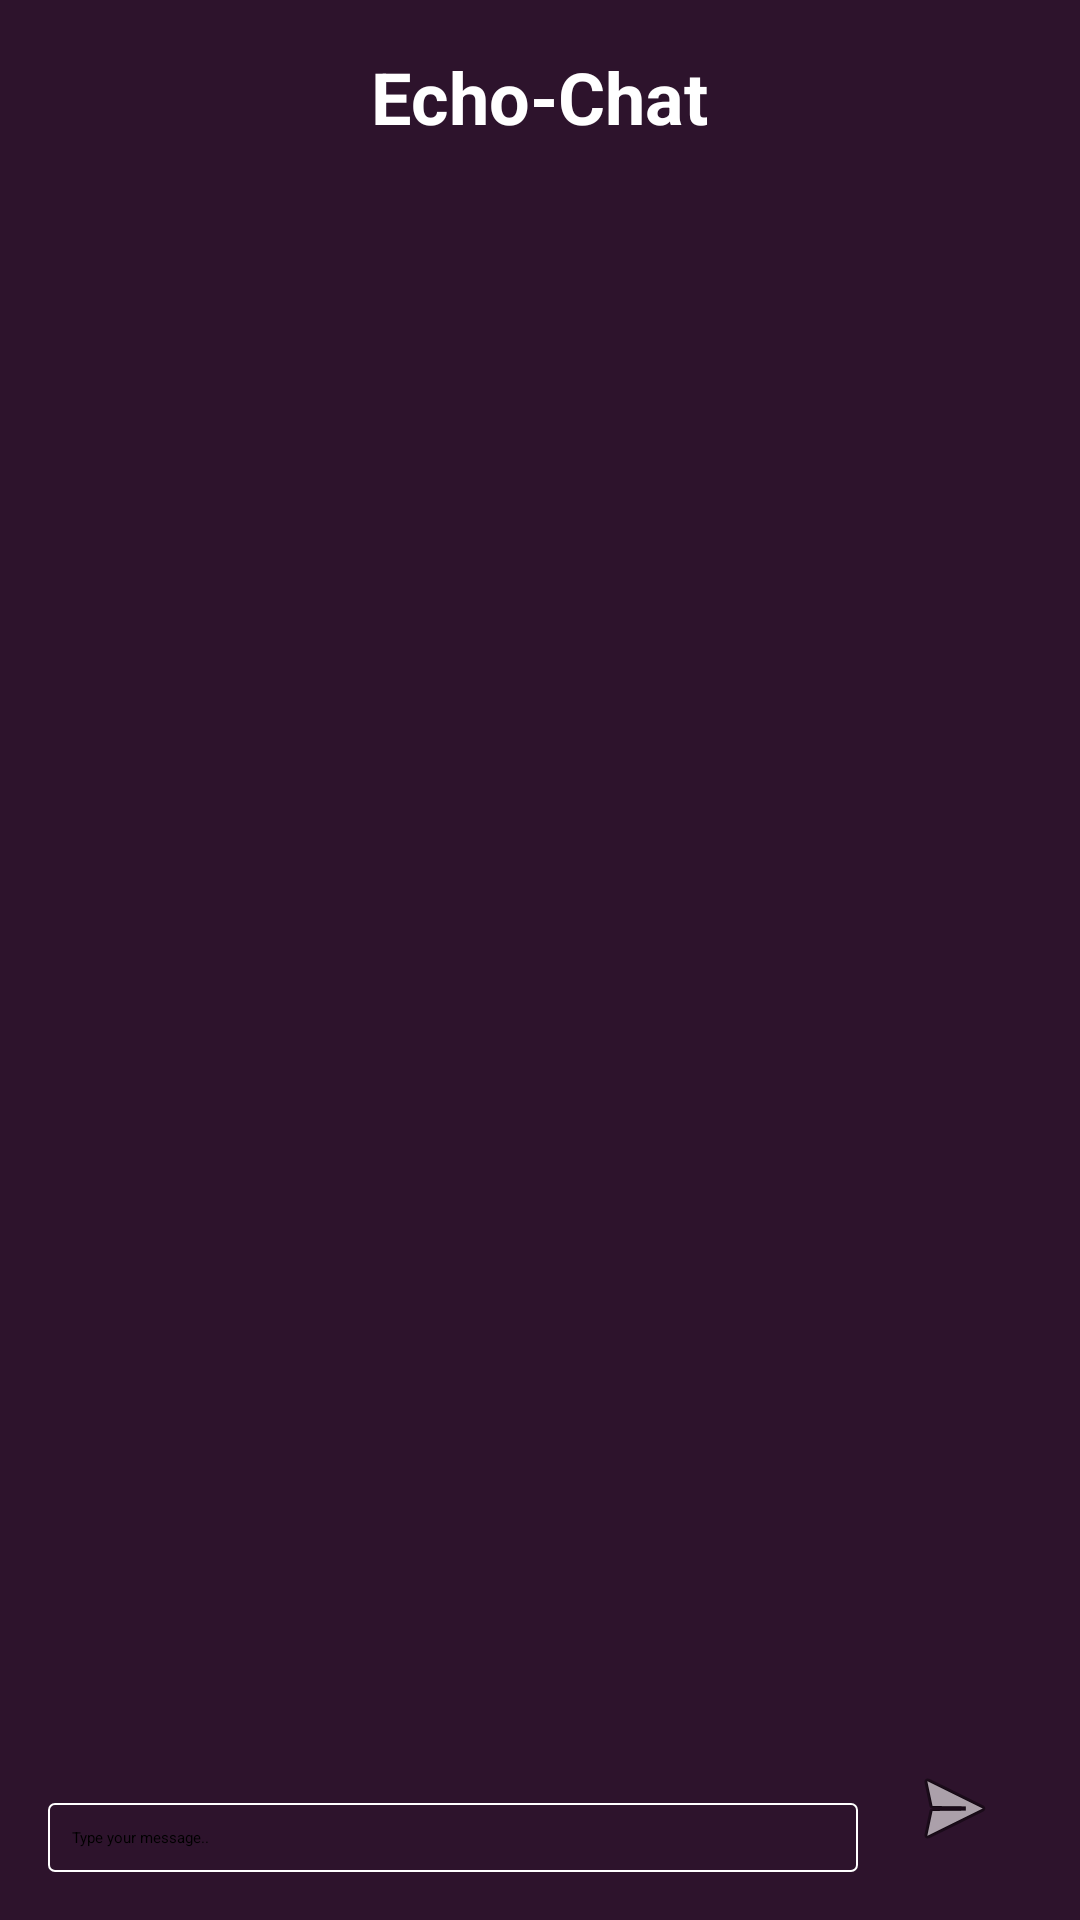

Icons on this 1080 × 1920 Android screen, each with the point to tap as (x=x, y=y):
send: (x=955, y=1808)
